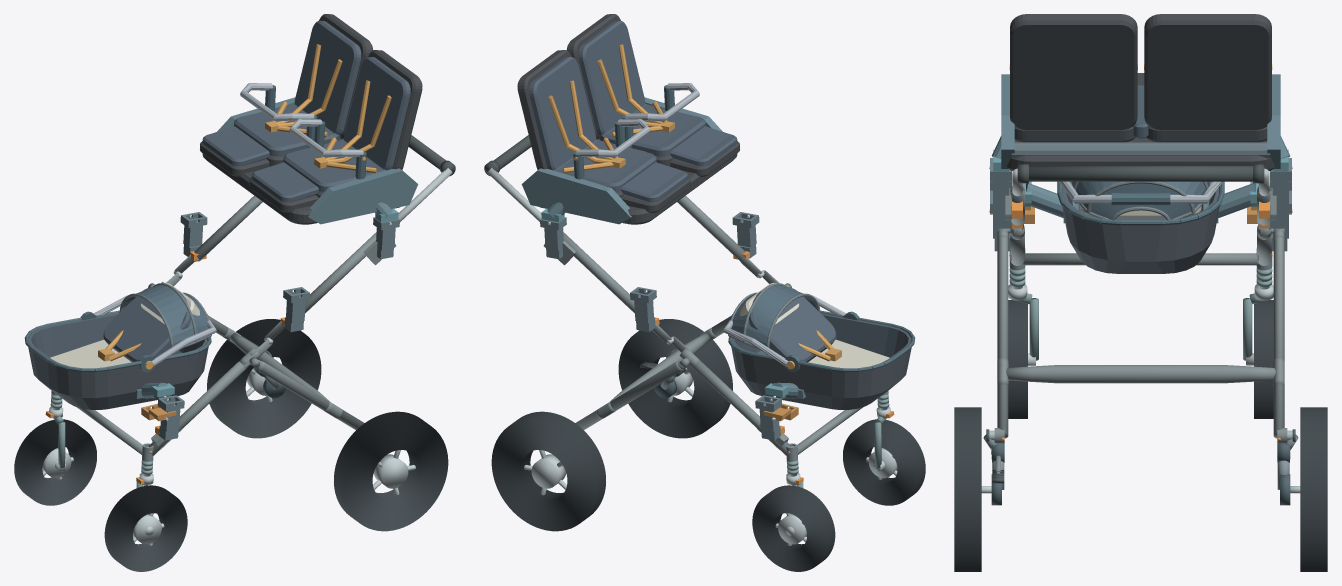
Rendered from D25_w650_state1_wheel_L.glb.
The picture shows the model from 3 angles, left to right: view 1: azimuth 30°, elevation 25°; view 2: azimuth 150°, elevation 25°; view 3: azimuth 270°, elevation 25°; orthographic projection. The views are drawn at different scales.
Parts seen in each view (by area): view 1: D25_Upper, D25_Lower, RL_tire.008, RR_tire.008, FL_tire.008, FR_tire.008, V46_rear_leg_-1.009, main_lower_-1.009, main_upper_-1.009, main_upper_1.009, Universal_Cabin_Receiver_M_-1, RL_sealed_hub.008 (+8 smaller); view 2: D25_Upper, D25_Lower, RR_tire.008, RL_tire.008, FR_tire.008, FL_tire.008, V46_rear_leg_1.009, main_lower_1.009, main_upper_1.009, main_upper_-1.009, Universal_Cabin_Receiver_M_1, RR_sealed_hub.008 (+8 smaller); view 3: D25_Upper, D25_Lower, V46_rearbar.009, RL_tire.008, RR_tire.008, round_handle.008, FL_tire.008, FR_tire.008, V46_rear_leg_1.009, V46_rear_leg_-1.009, D25_Lower_Mount_L, front_fixed_round_tube.008 (+5 smaller).
Part boxes in pixels (bbox=[...]): D25_Upper: bbox=[200, 14, 422, 224]; D25_Lower: bbox=[24, 282, 216, 409]; RL_tire.008: bbox=[334, 411, 448, 531]; RR_tire.008: bbox=[207, 319, 321, 438]; FL_tire.008: bbox=[104, 485, 187, 571]; FR_tire.008: bbox=[14, 419, 96, 505]; V46_rear_leg_-1.009: bbox=[256, 361, 364, 429]; main_lower_-1.009: bbox=[148, 361, 249, 455]; main_upper_-1.009: bbox=[284, 232, 376, 318]; main_upper_1.009: bbox=[194, 195, 262, 260]; Universal_Cabin_Receiver_M_-1: bbox=[283, 287, 309, 331]; RL_sealed_hub.008: bbox=[373, 454, 408, 488]; D25_Upper: bbox=[517, 14, 739, 224]; D25_Lower: bbox=[723, 282, 915, 409]; RR_tire.008: bbox=[491, 411, 605, 531]; RL_tire.008: bbox=[618, 319, 732, 438]; FR_tire.008: bbox=[752, 485, 835, 571]; FL_tire.008: bbox=[843, 419, 925, 505]; V46_rear_leg_1.009: bbox=[575, 361, 683, 429]; main_lower_1.009: bbox=[690, 361, 791, 455]; main_upper_1.009: bbox=[563, 232, 655, 318]; main_upper_-1.009: bbox=[677, 195, 745, 260]; Universal_Cabin_Receiver_M_1: bbox=[630, 287, 656, 331]; RR_sealed_hub.008: bbox=[531, 454, 566, 488]; D25_Upper: bbox=[1001, 14, 1280, 171]; D25_Lower: bbox=[1057, 181, 1224, 273]; V46_rearbar.009: bbox=[1006, 365, 1275, 383]; RL_tire.008: bbox=[954, 407, 981, 571]; RR_tire.008: bbox=[1300, 407, 1327, 571]; round_handle.008: bbox=[1017, 166, 1264, 181]; FL_tire.008: bbox=[1008, 300, 1027, 418]; FR_tire.008: bbox=[1254, 300, 1273, 418]; V46_rear_leg_1.009: bbox=[1273, 235, 1284, 438]; V46_rear_leg_-1.009: bbox=[997, 235, 1008, 438]; D25_Lower_Mount_L: bbox=[1023, 181, 1258, 223]; front_fixed_round_tube.008: bbox=[1023, 253, 1258, 265].
Size of the model in its own units: 1.28 by 1.4 by 0.8171.
